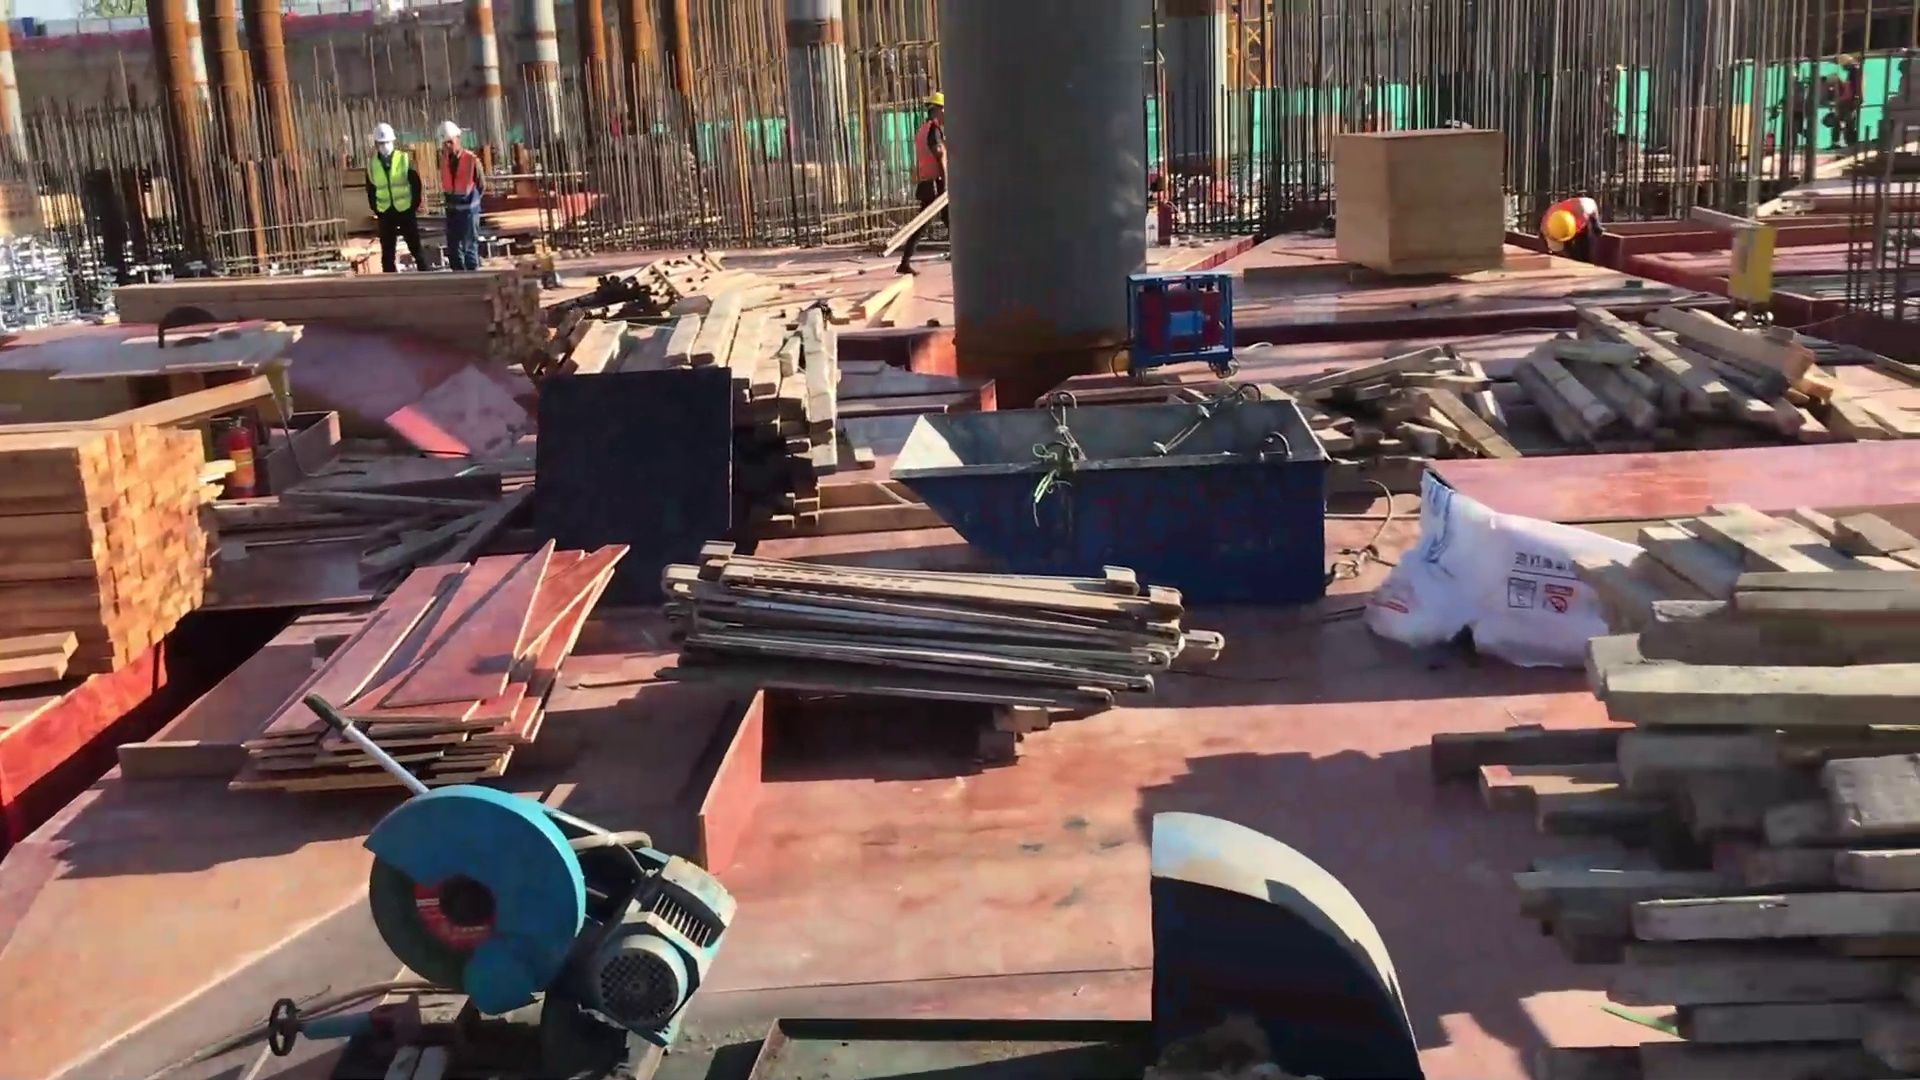board: (219, 531, 650, 805), (1424, 424, 1920, 557), (1324, 117, 1522, 281)
cutter: (286, 693, 734, 1050)
ebox: (1719, 205, 1781, 338)
helmet: (1542, 207, 1577, 246), (367, 120, 401, 148), (434, 117, 465, 144), (923, 88, 948, 108)
hopper: (888, 388, 1346, 614)
person: (359, 117, 427, 281), (429, 119, 491, 281), (907, 85, 954, 278), (1534, 192, 1611, 271)
vest: (368, 149, 418, 215), (435, 146, 483, 215), (913, 116, 951, 187), (1550, 192, 1599, 229)
wood: (555, 283, 862, 533), (1, 402, 234, 705), (100, 269, 560, 395)
